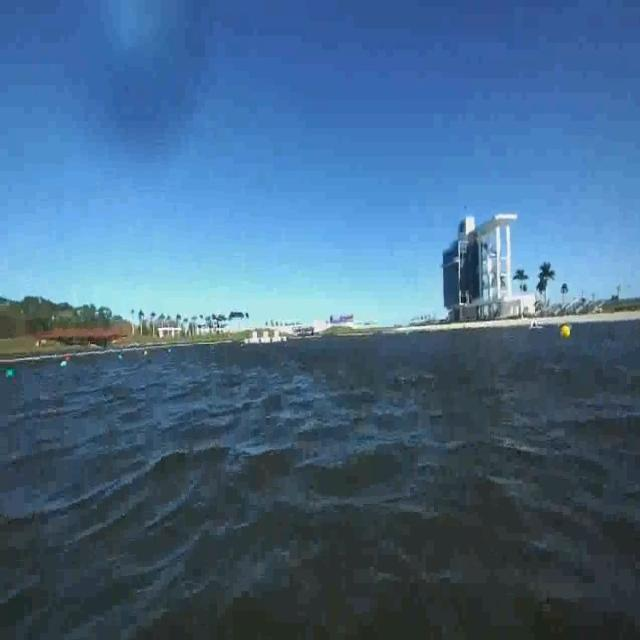yellow-buoy: (562, 325, 572, 342)
